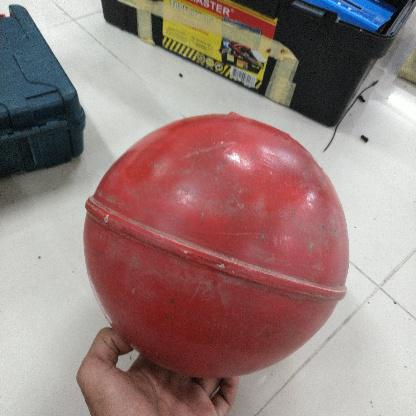red_buoy: (81, 111, 350, 381)
